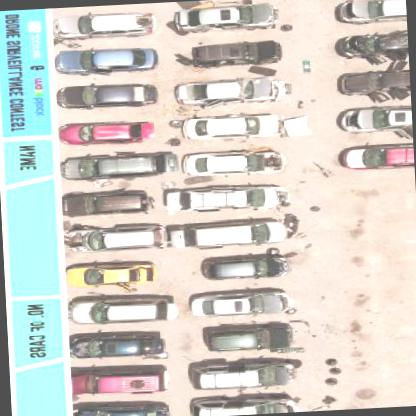car: (170, 218, 292, 250), (174, 76, 286, 108), (53, 44, 156, 78), (162, 185, 287, 213), (187, 358, 295, 390), (180, 148, 284, 179), (52, 10, 157, 40), (69, 296, 174, 326), (64, 223, 166, 253), (204, 320, 294, 354), (58, 80, 158, 110), (180, 112, 282, 141), (191, 290, 294, 318), (172, 3, 278, 30), (61, 154, 163, 182), (57, 118, 155, 146), (200, 252, 290, 282), (70, 334, 166, 362), (190, 40, 280, 69), (189, 392, 302, 415), (70, 369, 166, 396), (337, 67, 410, 102), (61, 190, 147, 218), (336, 103, 411, 135), (67, 262, 156, 288), (339, 141, 412, 172), (332, 0, 405, 27), (339, 32, 407, 60), (72, 399, 171, 415)
